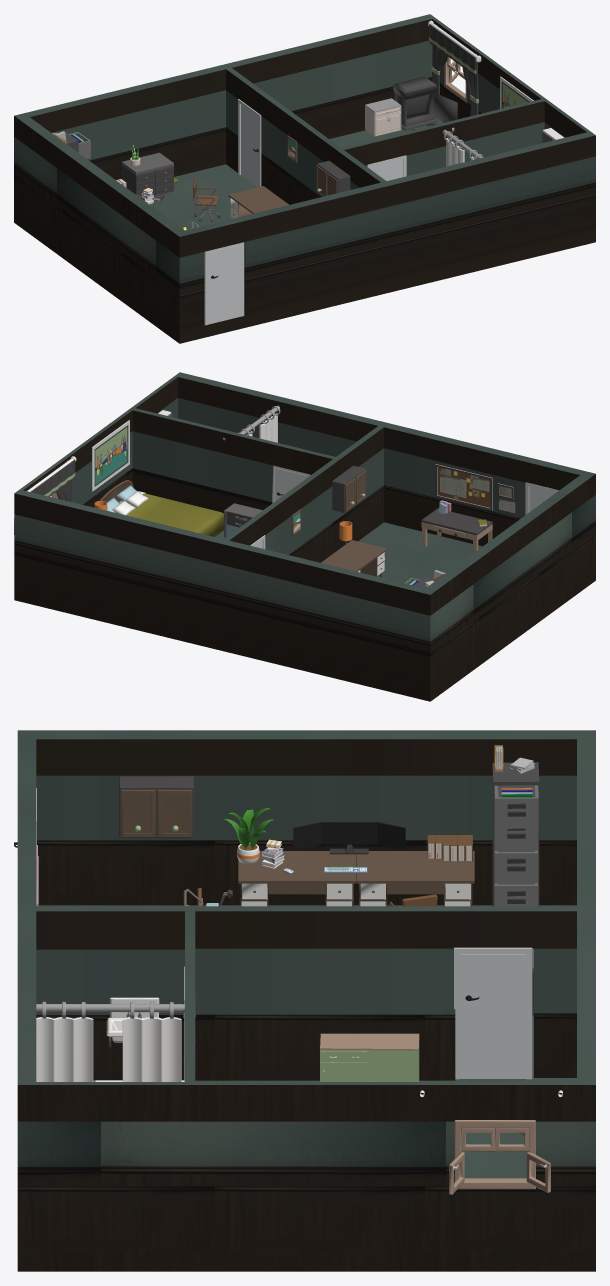
Rendered from Crime_Scene.glb.
3 renders of one model, top to bottom at view 1: azimuth 30°, elevation 25°; view 2: azimuth 150°, elevation 25°; view 3: azimuth 270°, elevation 25°, orthographic. The views are drawn at different scales.
Visible parts, largest first — view 1: Plane, door_Door_material_0, model_3.002, model_13.007, door_Door_material_0.001, model_14.001, model_13.001, model_13.008, model_21.006, model_6.003, door_Door_material_0.002, model_11.002 (+3 smaller); view 2: Plane, model_9.003, model_11.002, model_20.001, model_13.001, model_21.006, model_0, Plane.010, model_3.002, model_6.003, door_Door_material_0.002, model_11.006 (+1 smaller); view 3: Plane, door_Door_material_0.001, model_6.003, model_13.003, model_13.002, model_13.006, model_21.007, model_10.002, Triple Monitor_Palette_0, Drawer.009_Palette_0, Drawer.007_Palette_0, Drawers2_Palette_0 (+5 smaller).
Boxes of the visible parts, bbox=[...] form: Plane: bbox=[14, 14, 595, 343]; door_Door_material_0: bbox=[204, 242, 244, 325]; model_3.002: bbox=[428, 20, 481, 116]; model_13.007: bbox=[393, 76, 436, 130]; door_Door_material_0.001: bbox=[238, 99, 261, 187]; model_14.001: bbox=[121, 152, 173, 196]; model_13.001: bbox=[228, 186, 288, 218]; model_13.008: bbox=[365, 98, 401, 136]; model_21.006: bbox=[316, 160, 350, 196]; model_6.003: bbox=[442, 127, 483, 166]; door_Door_material_0.002: bbox=[367, 155, 406, 180]; model_11.002: bbox=[500, 76, 533, 108]; Plane: bbox=[14, 372, 595, 701]; model_9.003: bbox=[100, 480, 223, 536]; model_11.002: bbox=[92, 420, 129, 491]; model_20.001: bbox=[421, 508, 492, 553]; model_13.001: bbox=[321, 540, 387, 577]; model_21.006: bbox=[332, 465, 366, 512]; model_0: bbox=[439, 469, 515, 513]; Plane.010: bbox=[435, 464, 492, 510]; model_3.002: bbox=[27, 456, 76, 502]; model_6.003: bbox=[223, 405, 280, 442]; door_Door_material_0.002: bbox=[272, 465, 310, 502]; model_11.006: bbox=[224, 503, 262, 537]; Plane: bbox=[17, 730, 595, 1271]; door_Door_material_0.001: bbox=[454, 947, 532, 1079]; model_6.003: bbox=[36, 1001, 195, 1081]; model_13.003: bbox=[356, 851, 474, 906]; model_13.002: bbox=[238, 851, 356, 906]; model_13.006: bbox=[320, 1033, 419, 1081]; model_21.007: bbox=[119, 776, 193, 837]; model_10.002: bbox=[454, 1120, 535, 1189]; Triple Monitor_Palette_0: bbox=[293, 822, 405, 856]; Drawer.009_Palette_0: bbox=[494, 785, 538, 828]; Drawer.007_Palette_0: bbox=[494, 850, 538, 883]; Drawers2_Palette_0: bbox=[492, 762, 539, 906].
Size of the model in its own units: 15.24 by 3.6 by 10.17.
Materials: 8 (6 with a texture image).
